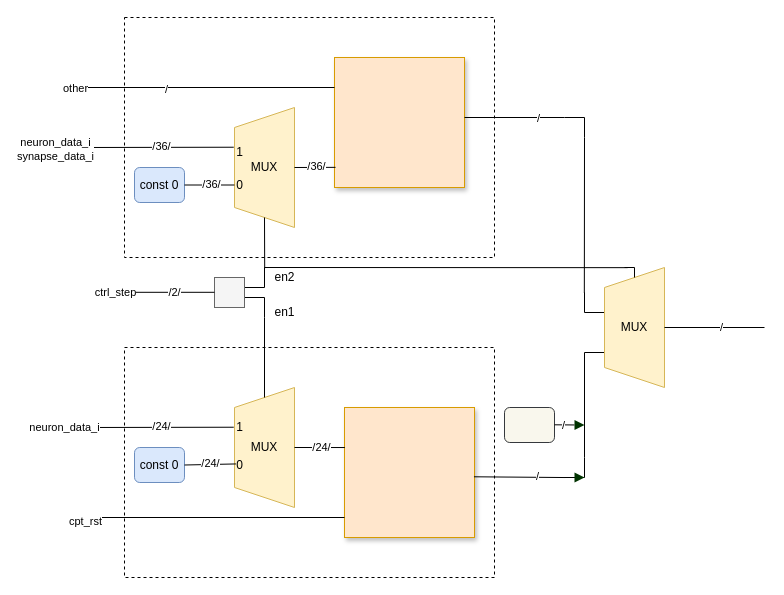
The diagram is 784 pixels wide and 595 high, and some of its shapes have lost their labels. Each missing label, with the centre of its shape:
"'x" belongs at pixel 529 424.
"Neuron_Update_I" belongs at pixel 410 473.
"Neuron_Update_II" belongs at pixel 400 123.
